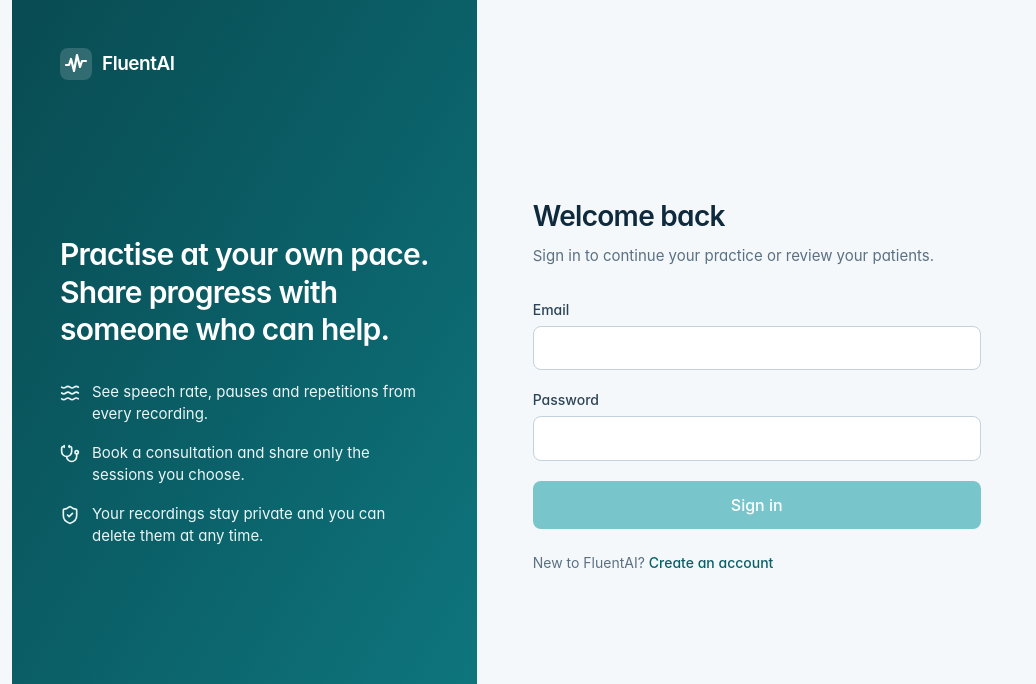
Test case: auth flows › shows the server message on a failed login and sends the CSRF header
Type "asha@example.com" into the field labelled "Email" at [757, 348], box [533,326,981,370]
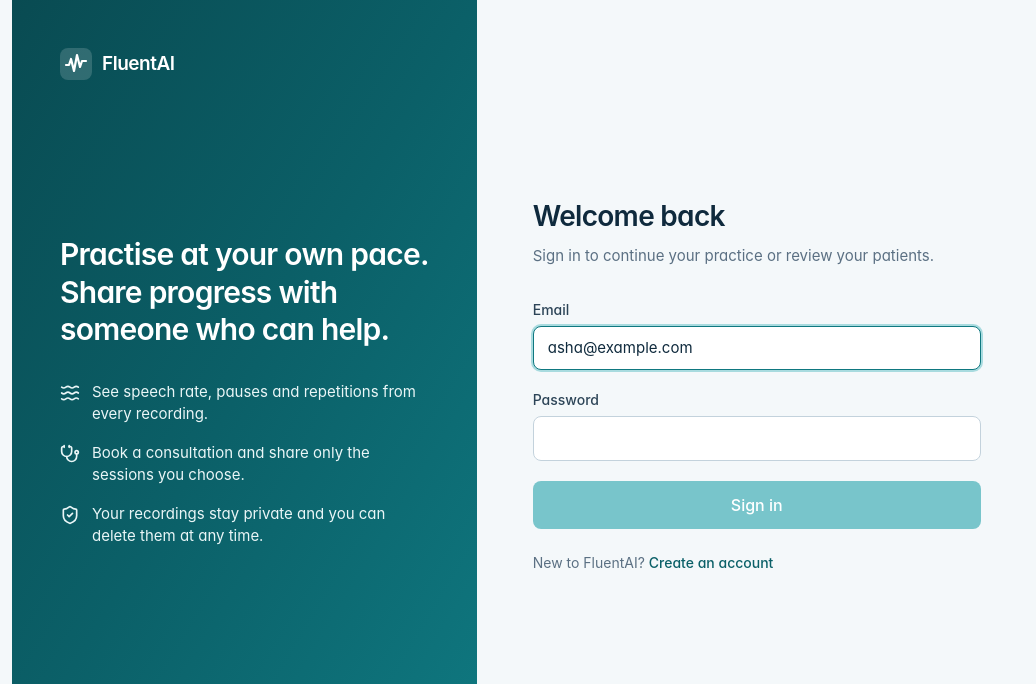
Type "wrong-password" into the password field labelled "Password" at [757, 439], box [533,416,981,461]
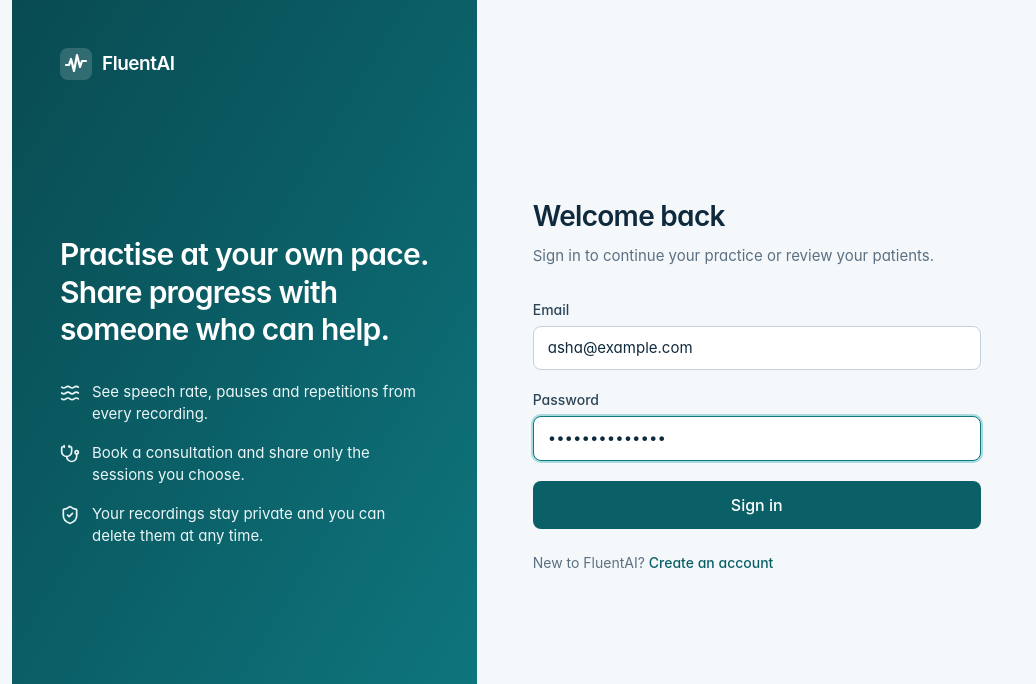
Click the button "Sign in" at [757, 505], box [533,481,981,529]
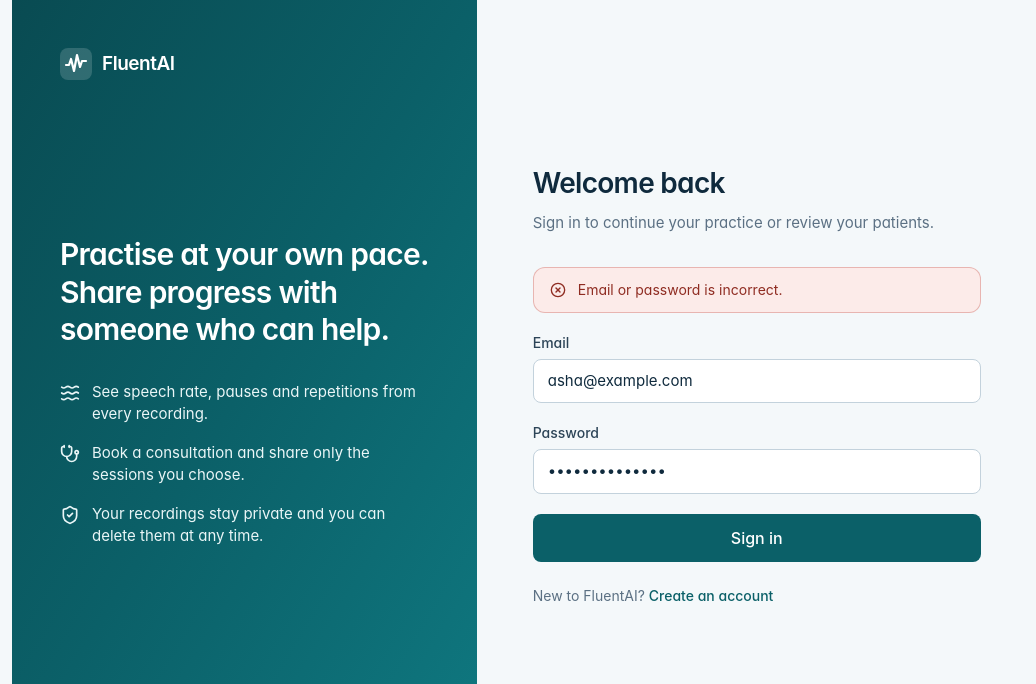
Expected: the message reads "Email or password is incorrect.", [578,281,782,298]
